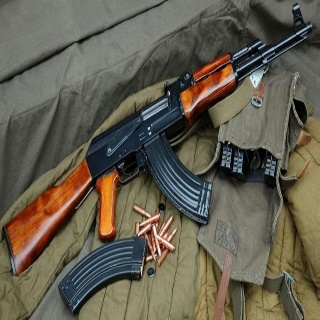rifle: (2, 4, 316, 277)
